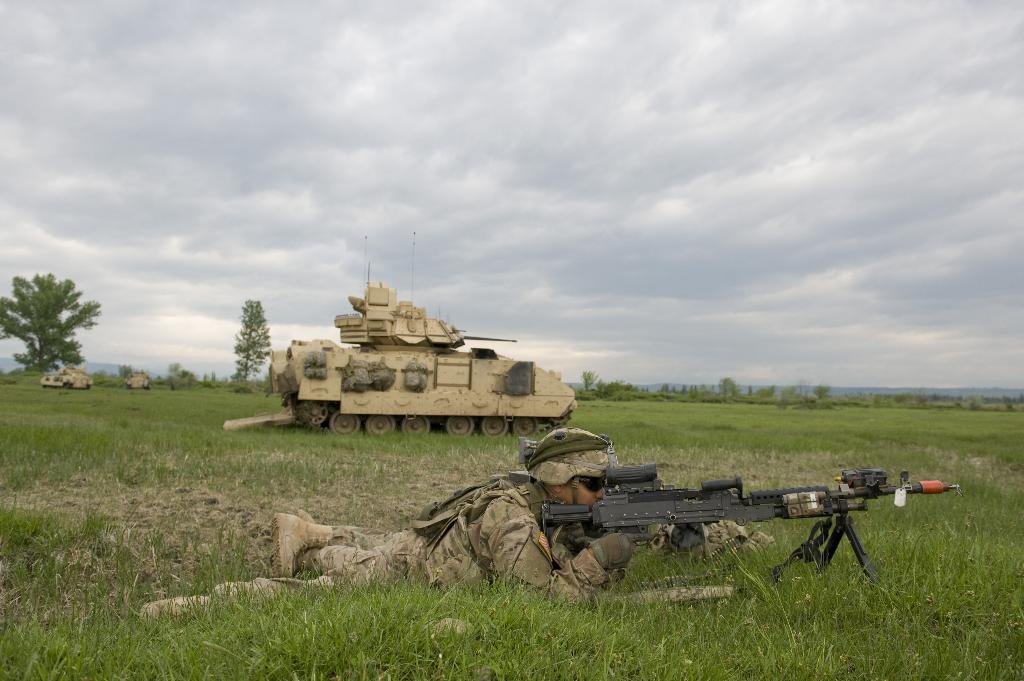Tank: (224, 225, 579, 436), (34, 360, 95, 388)
